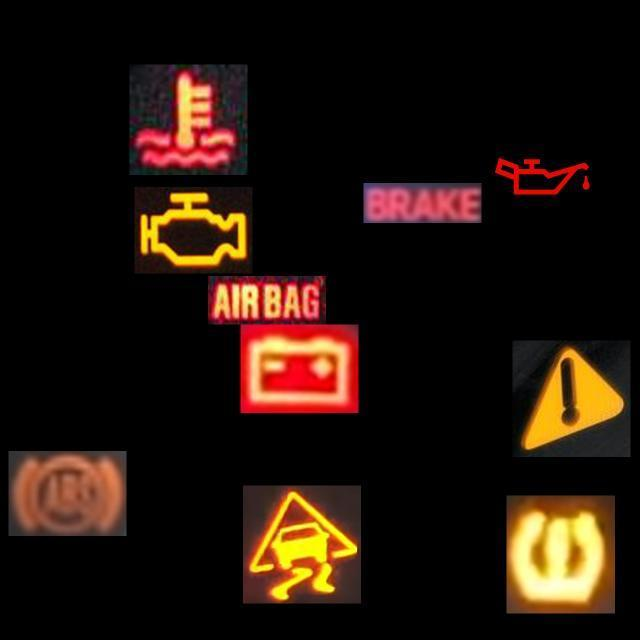Central Warning lamp: (512, 340, 630, 458)
Engine cooling system: (130, 64, 248, 176)
